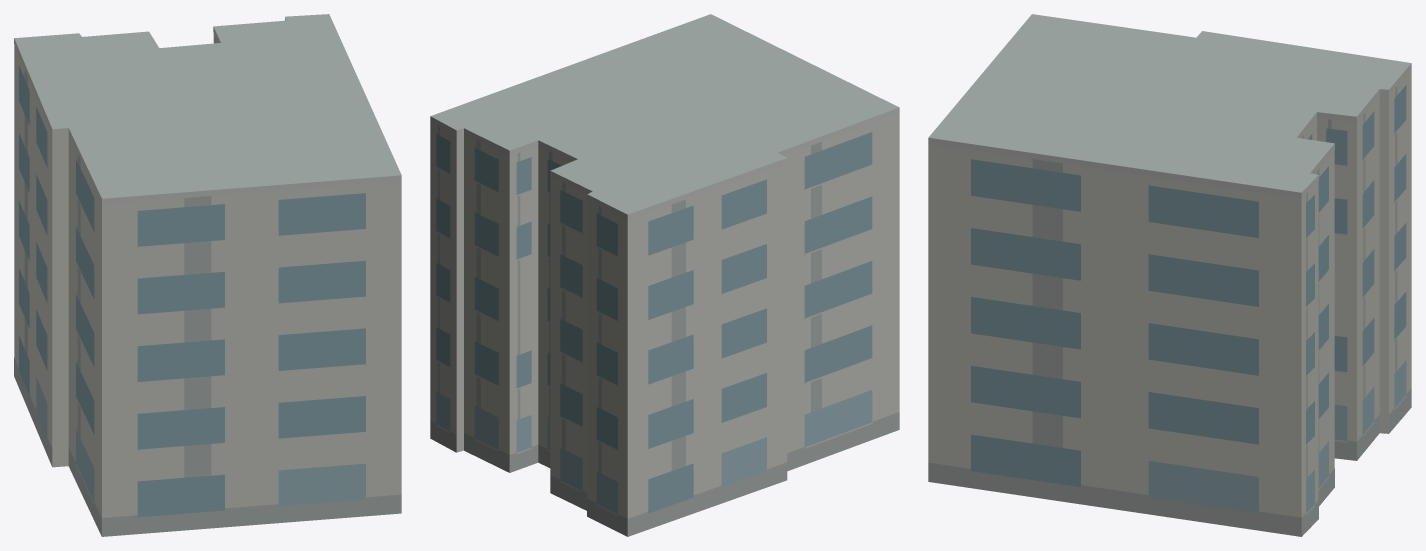
Rendered from survey-upis-32889263.glb.
3 renders of one model, left to right at view 1: azimuth 30°, elevation 25°; view 2: azimuth 150°, elevation 25°; view 3: azimuth 270°, elevation 25°, orthographic. The views are drawn at different scales.
Visible parts, largest first — view 1: survey-upis-32889263.tmp; view 2: survey-upis-32889263.tmp; view 3: survey-upis-32889263.tmp.
Part boxes in pixels (<box>): survey-upis-32889263.tmp: <box>14,14,401,536</box>; survey-upis-32889263.tmp: <box>430,14,899,536</box>; survey-upis-32889263.tmp: <box>928,14,1411,536</box>.
Size of the model in its own units: 15.82 by 14.2 by 18.08.
